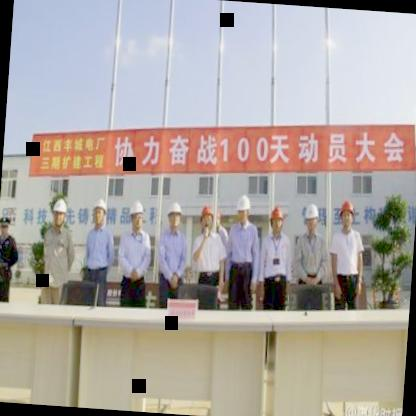helmet: (126, 195, 147, 233), (162, 200, 186, 233), (198, 197, 217, 234), (266, 202, 287, 235), (49, 196, 68, 232), (336, 196, 356, 230), (232, 192, 252, 225), (90, 196, 108, 232), (302, 203, 322, 234)
